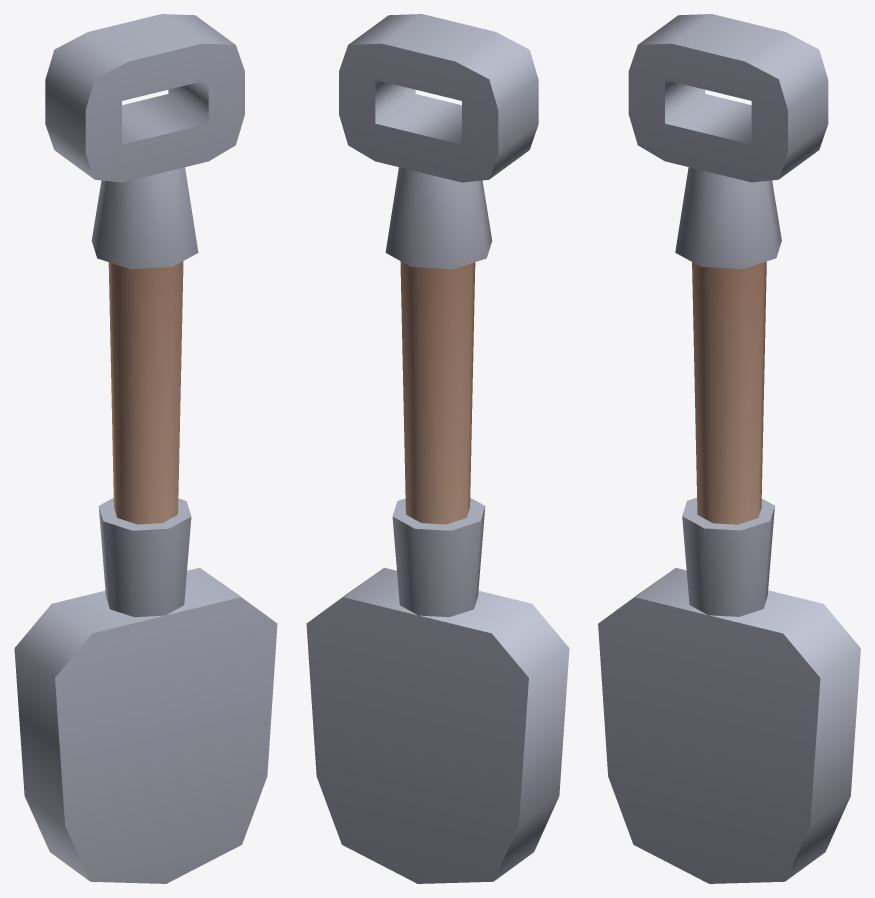
The model's file is tool-shovel.glb.
3 views of the same model, side by side, from view 1: azimuth 30°, elevation 25°; view 2: azimuth 150°, elevation 25°; view 3: azimuth 330°, elevation 25° (orthographic).
Visible parts, largest first — view 1: tool-shovel; view 2: tool-shovel; view 3: tool-shovel.
Part boxes in pixels (x1,y1,x2,y2): tool-shovel: (14, 14, 277, 883); tool-shovel: (306, 14, 569, 883); tool-shovel: (598, 14, 860, 883).
Bounding box in the file's own units: 0.6578 × 2.35 × 0.2829.
